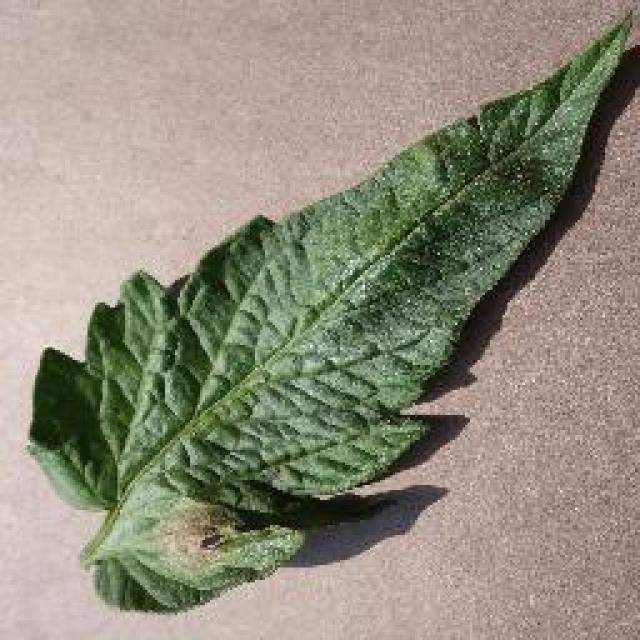Tomato Late Blight: (71, 205, 576, 603)
